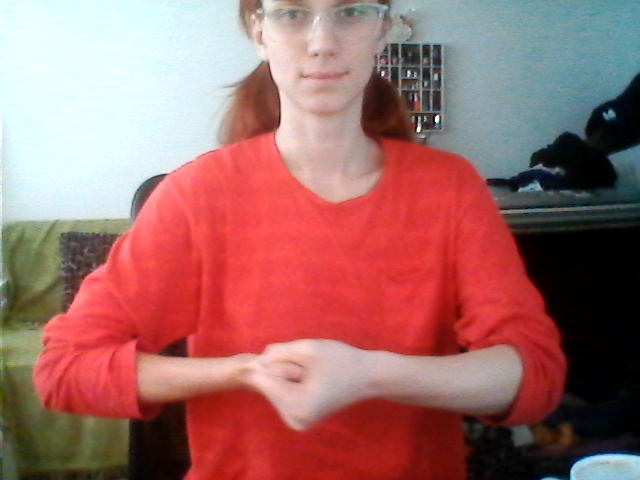hasic: (215, 315, 397, 441)
